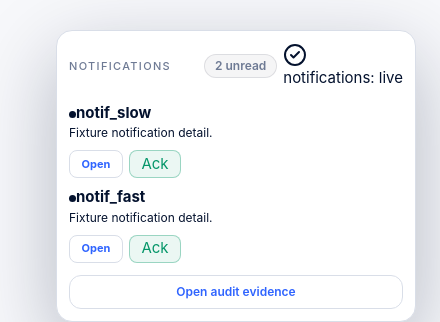
Test: NotificationPanel acknowledgement › announces a failed acknowledgement and permits a retry
(page scrolled)
Click the button "Ack" below "notif_slow" at point(155, 164), box left=129, top=150, right=181, bottom=178
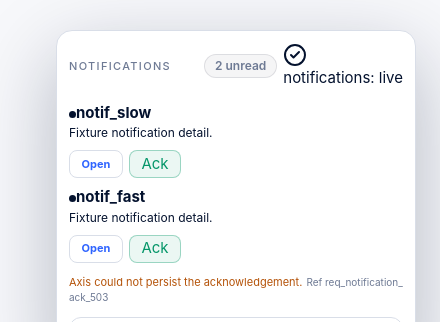
Expected: the message does not show "secret=must-not-render", left=69, top=274, right=403, bottom=305
Expected: the message shows "Axis could not persist the acknowledgement.", left=69, top=274, right=302, bottom=288
Expected: the message shows "Ref req_notification_ack_503", left=69, top=274, right=403, bottom=305
Click the button "Ack" below "notif_slow" at point(155, 164), box left=129, top=150, right=181, bottom=178
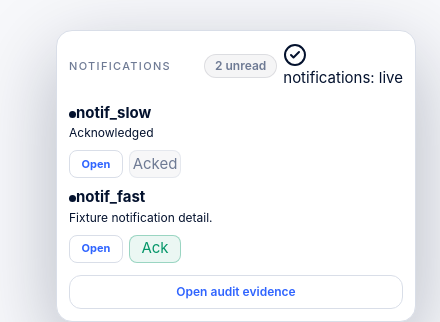
Expected: the button "Acked" is shown, left=129, top=150, right=181, bottom=178
Expected: the button "Acked" is disabled, left=129, top=150, right=181, bottom=178
Expected: the message "Axis could not persist the acknowledgement.Ref req_notification_ack_503" is gone
